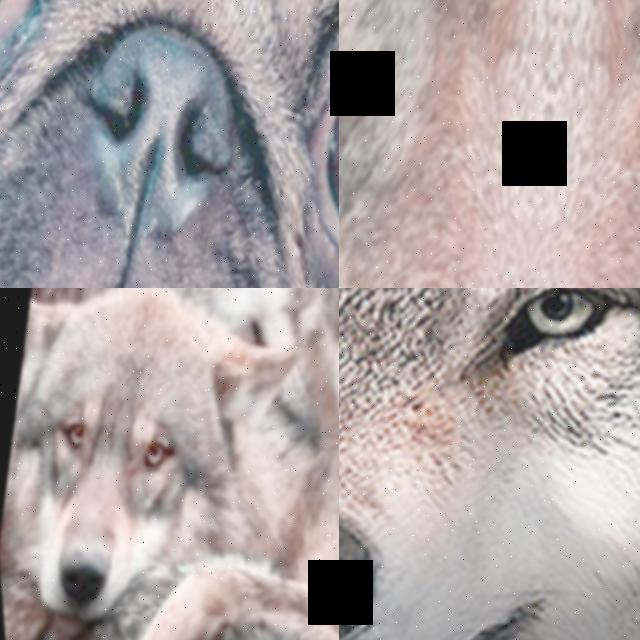dog: (0, 0, 339, 288)
wolf: (0, 288, 327, 640), (339, 288, 640, 640), (339, 0, 640, 288), (122, 288, 339, 640), (0, 481, 339, 640)
